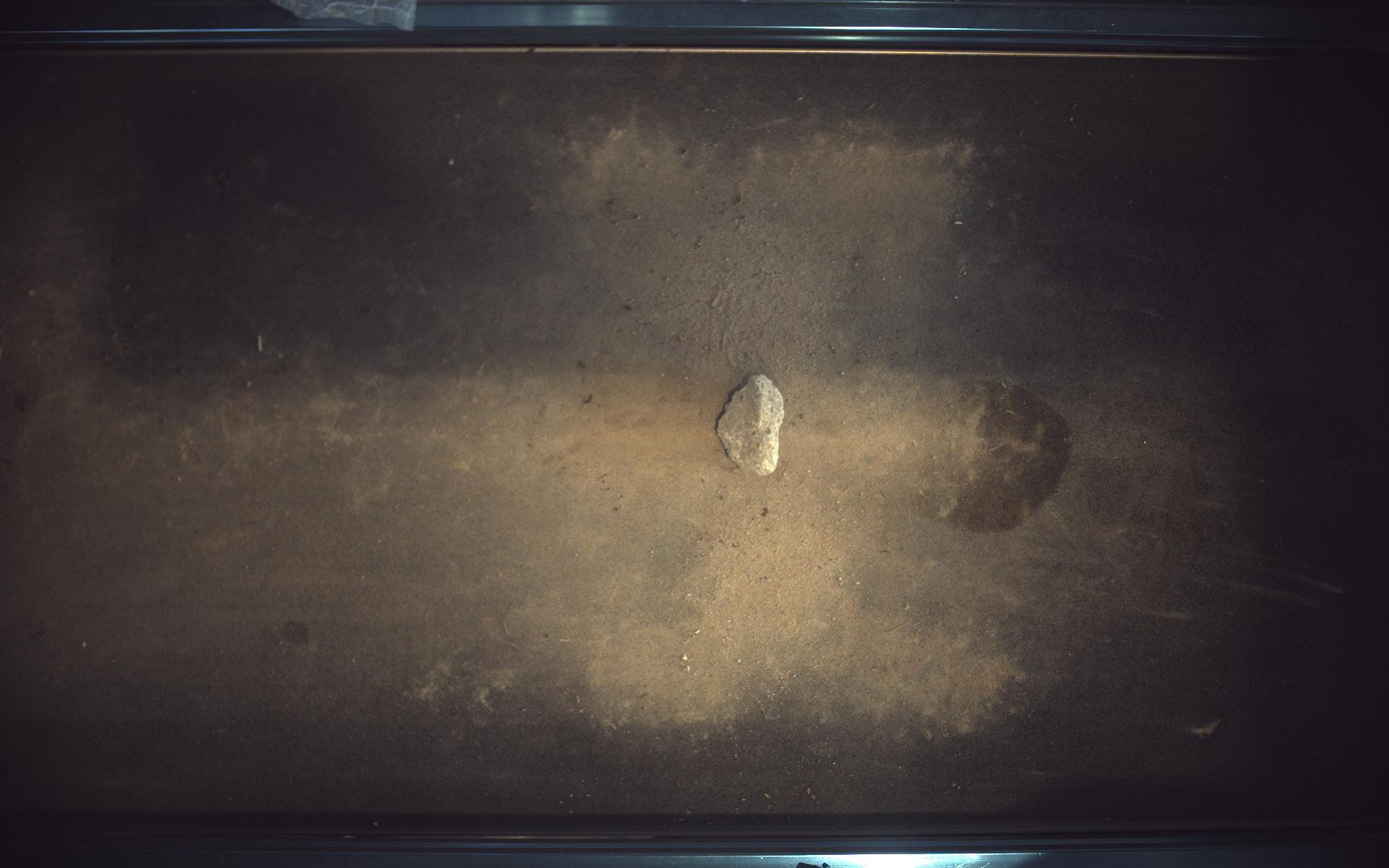stone: (718, 374, 786, 477)
